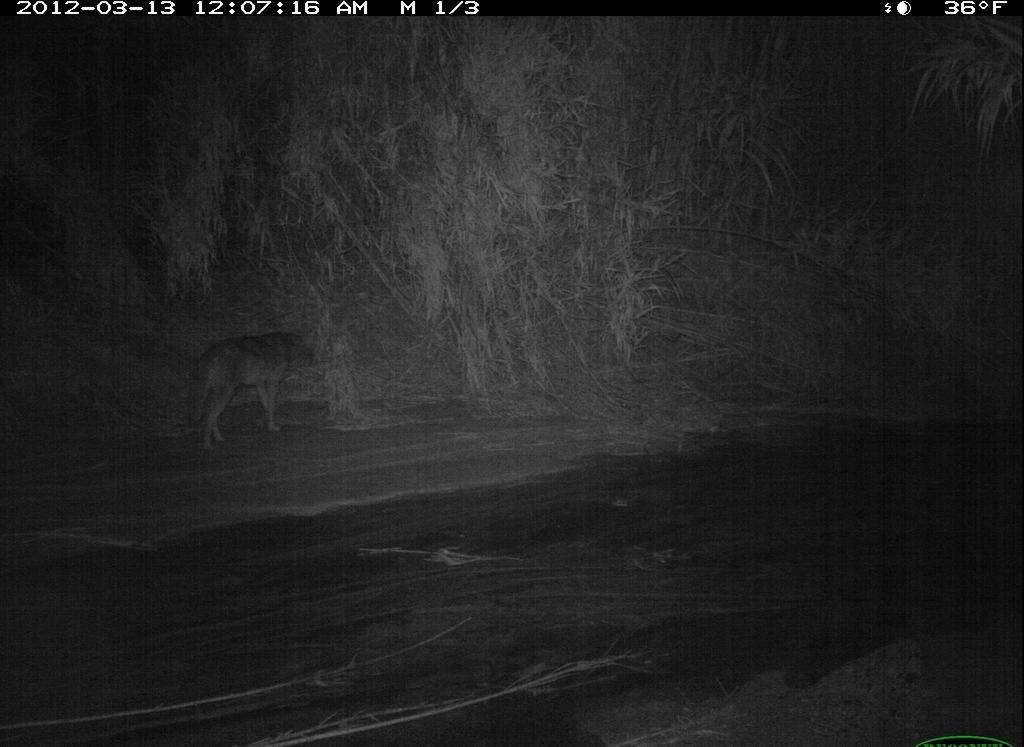coyote: (169, 319, 342, 456)
